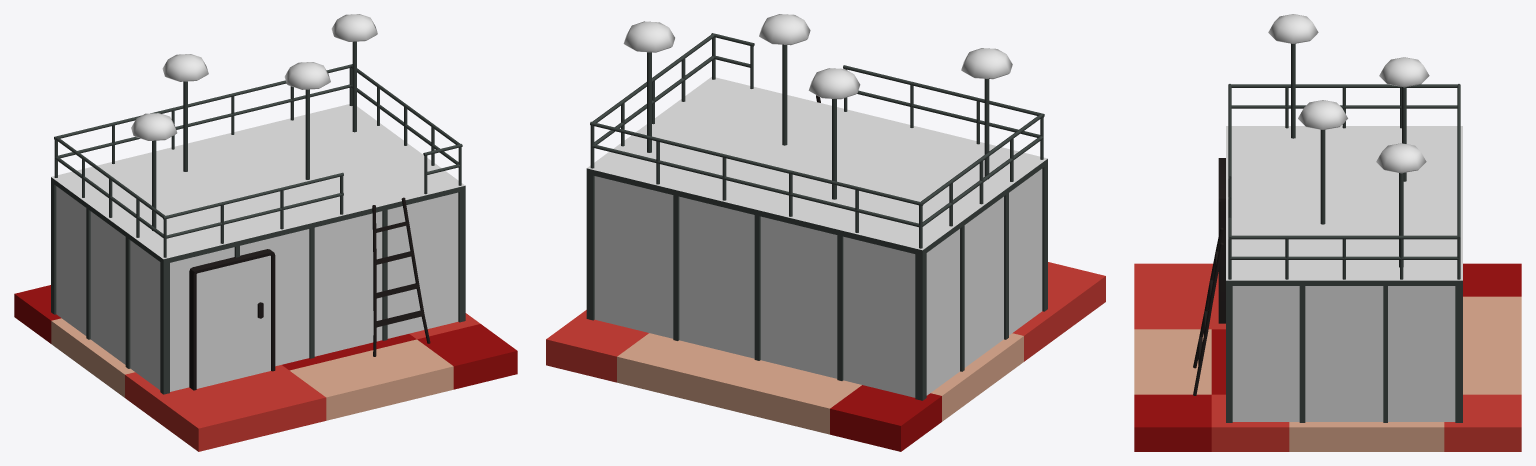
The model's file is 空氣品質監測站.fbx.
The picture shows the model from 3 angles, left to right: view 1: azimuth 30°, elevation 25°; view 2: azimuth 150°, elevation 25°; view 3: azimuth 270°, elevation 25°; orthographic projection. The views are drawn at different scales.
Parts seen in each view (by area): view 1: Box157, plane_air, Box167, Cylinder046, Cylinder077, Line005, Line007, Line001, Line006; view 2: Box157, plane_air, Cylinder046, Line005, Line007, Line001, Line006, Cylinder079, Cylinder078; view 3: Box157, plane_air, Cylinder046, Box167, Cylinder077, Line006, Line007, Line001, Line005, Cylinder079, Cylinder078.
Boxes of the visible parts, bbox=[...] form: Box157: bbox=[51, 104, 465, 394]; plane_air: bbox=[14, 285, 517, 451]; Box167: bbox=[189, 249, 275, 390]; Cylinder046: bbox=[54, 64, 462, 257]; Cylinder077: bbox=[372, 197, 430, 356]; Line005: bbox=[131, 113, 177, 140]; Line007: bbox=[331, 14, 377, 41]; Line001: bbox=[162, 54, 208, 81]; Line006: bbox=[284, 62, 330, 89]; Box157: bbox=[586, 77, 1047, 400]; plane_air: bbox=[546, 262, 1105, 451]; Cylinder046: bbox=[590, 33, 1044, 248]; Line005: bbox=[961, 48, 1012, 79]; Line007: bbox=[623, 21, 674, 52]; Line001: bbox=[808, 68, 860, 99]; Line006: bbox=[759, 14, 810, 45]; Cylinder079: bbox=[782, 44, 787, 145]; Cylinder078: bbox=[984, 79, 989, 179]; Box157: bbox=[1226, 126, 1462, 422]; plane_air: bbox=[1134, 263, 1521, 451]; Cylinder046: bbox=[1228, 84, 1460, 279]; Box167: bbox=[1218, 158, 1225, 323]; Cylinder077: bbox=[1193, 227, 1223, 395]; Line006: bbox=[1298, 100, 1347, 129]; Line007: bbox=[1376, 143, 1426, 173]; Line001: bbox=[1379, 57, 1429, 87]; Line005: bbox=[1268, 14, 1318, 43]; Cylinder079: bbox=[1320, 130, 1325, 224]; Cylinder078: bbox=[1291, 43, 1295, 138].
Bounding box in the file's own units: 100 × 81.68 × 100.
